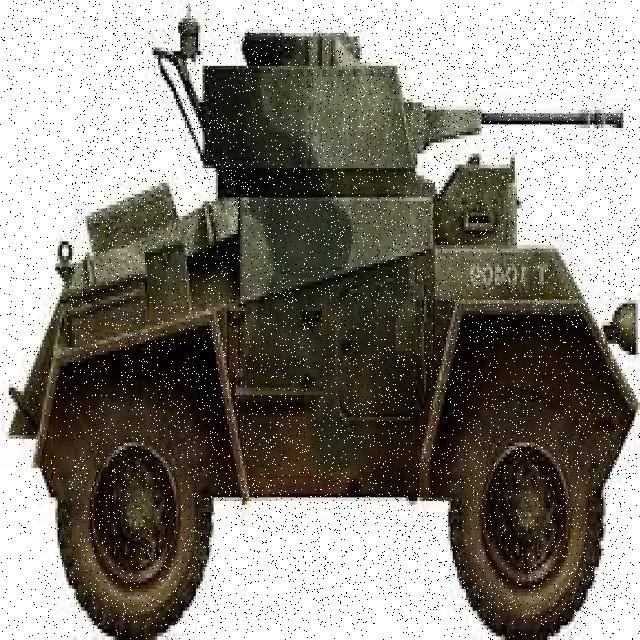MIL_MBT: (71, 16, 634, 624)
